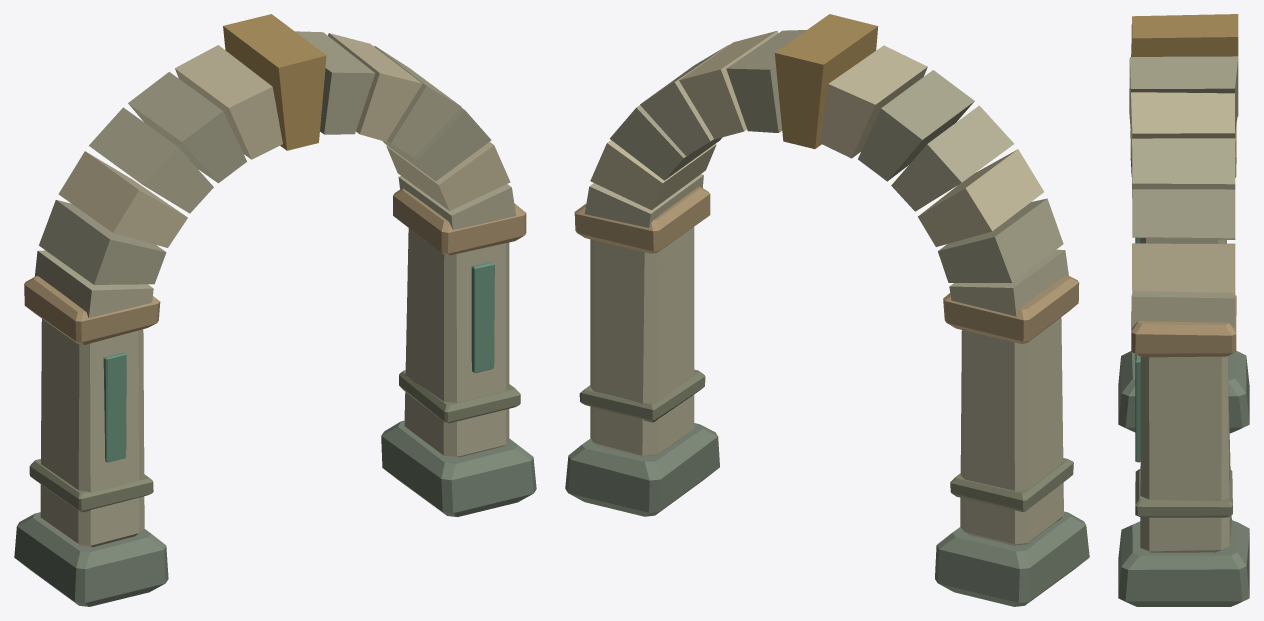
The model's file is gateway.glb.
The picture shows the model from 3 angles, left to right: view 1: azimuth 30°, elevation 25°; view 2: azimuth 150°, elevation 25°; view 3: azimuth 270°, elevation 25°; orthographic projection. The views are drawn at different scales.
Visible parts, largest first — view 1: gateway; view 2: gateway; view 3: gateway.
Boxes of the visible parts, x1,y1,x2,y2 form: gateway: [14, 14, 536, 606]; gateway: [565, 14, 1089, 606]; gateway: [1118, 14, 1249, 606].
Bounding box in the file's own units: 2.51 × 2.56 × 0.6407.
